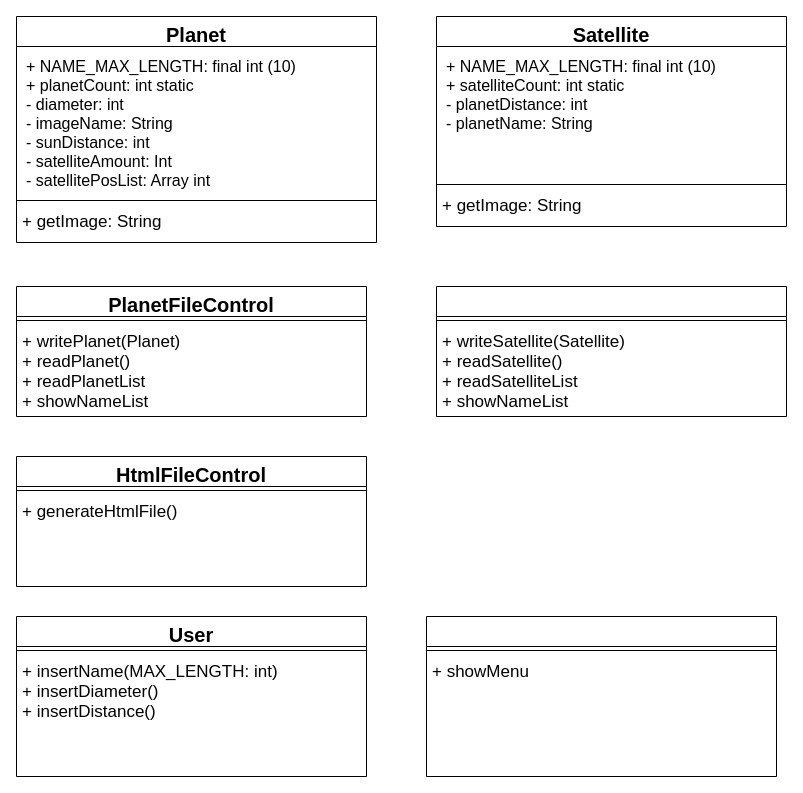
Some shapes in this 803 by 793 pixel diagram are drawn without their labels. The shapes that lost their labels are listed below. From the top down, each one's box as (x1, y1, x2, y2) in pixels, then its label:
(436, 286, 786, 416): SatelliteFileControl
(426, 616, 776, 776): VisualFront
